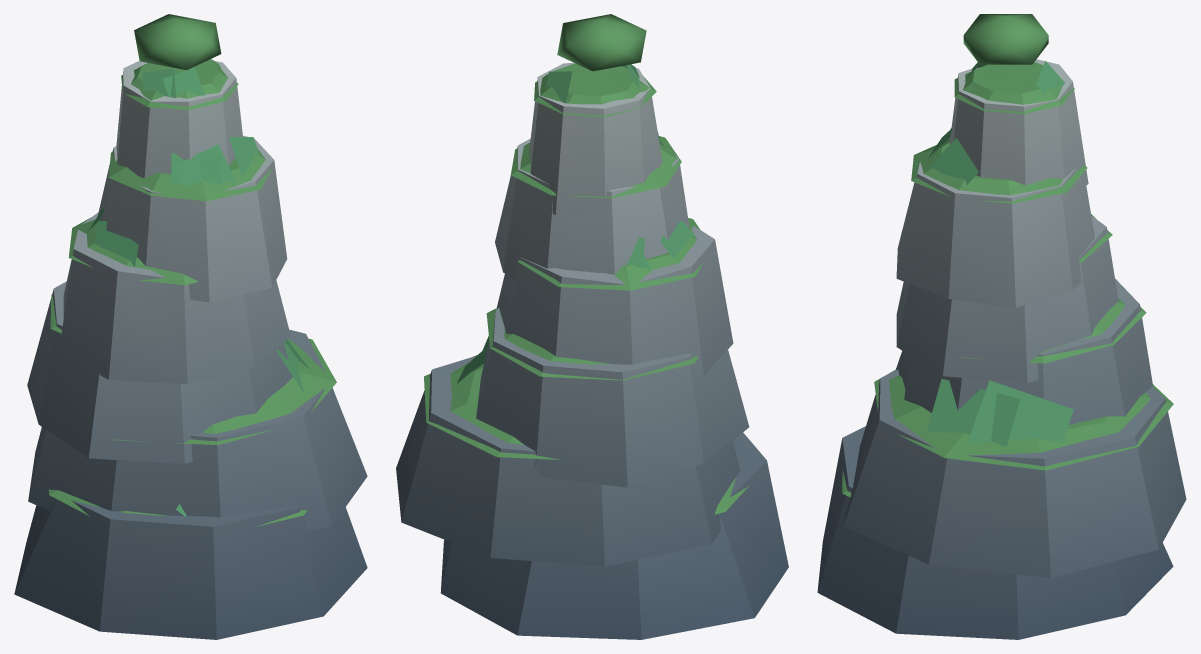
File: karst_b.glb
3 views of the same model, side by side, from view 1: azimuth 30°, elevation 25°; view 2: azimuth 150°, elevation 25°; view 3: azimuth 270°, elevation 25° (orthographic). The views are drawn at different scales.
Parts seen in each view (by area): view 1: Karst, Leaves; view 2: Karst, Leaves; view 3: Karst, Leaves.
Boxes of the visible parts, bbox=[...] form: Karst: bbox=[14, 14, 367, 639]; Leaves: bbox=[87, 67, 310, 516]; Karst: bbox=[396, 14, 788, 639]; Leaves: bbox=[457, 64, 695, 383]; Karst: bbox=[817, 14, 1186, 639]; Leaves: bbox=[926, 61, 1099, 446].
Size of the model in its own units: 15.62 by 24.09 by 14.66.
